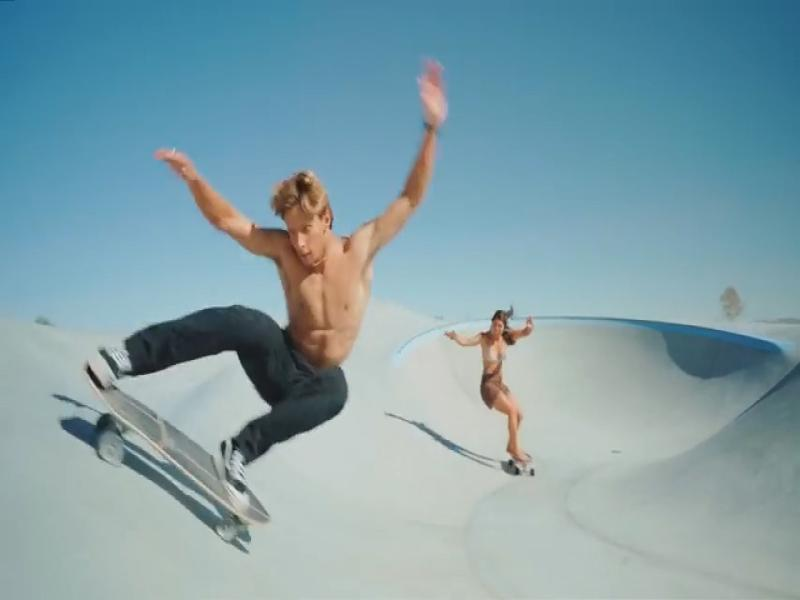person: (100, 63, 447, 498), (445, 311, 534, 466)
skate: (84, 363, 270, 541), (500, 442, 543, 482)
